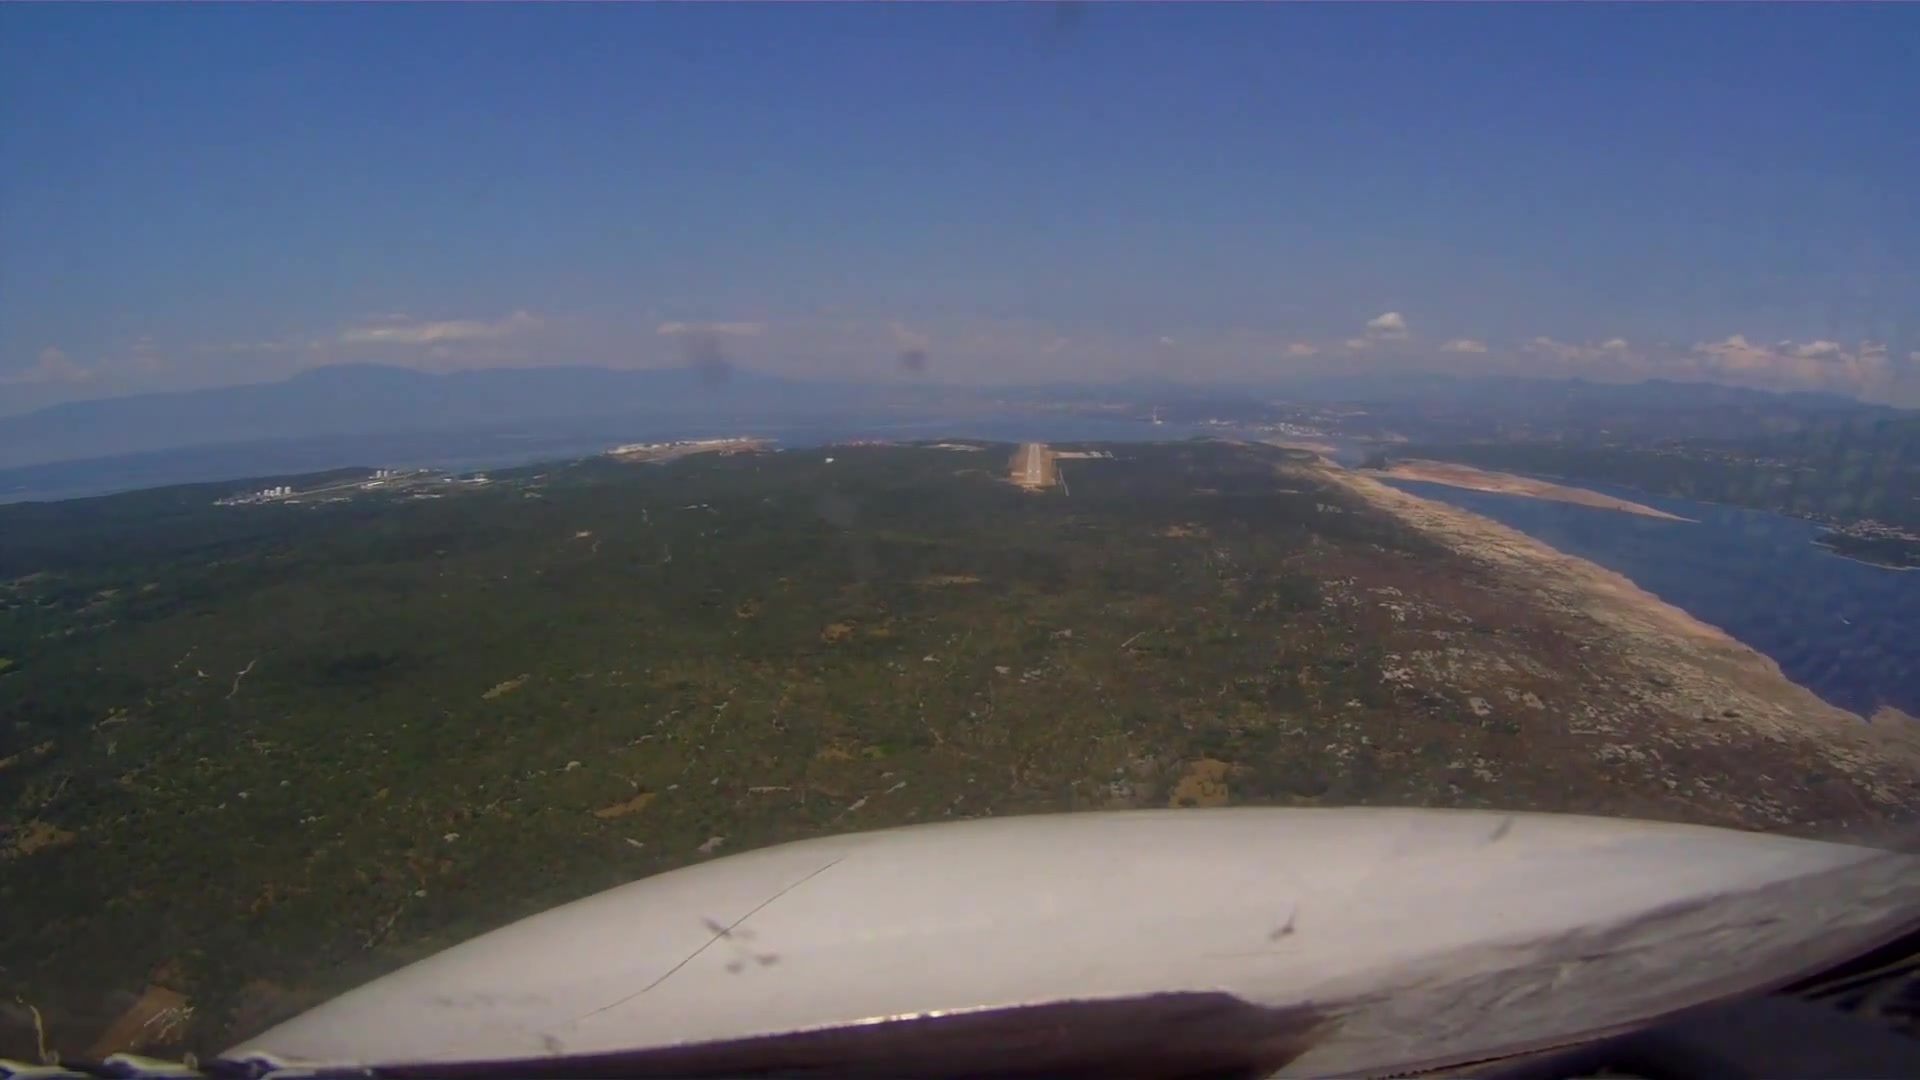runway: (1025, 444, 1043, 483)
